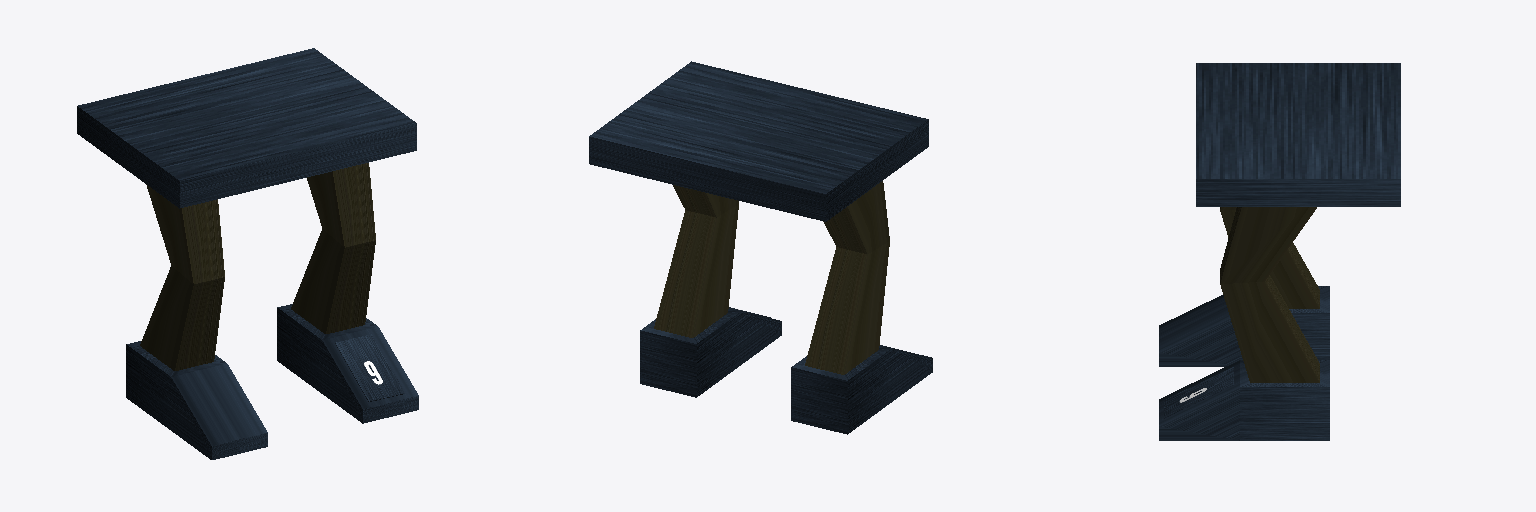
3 renders of one model, left to right at view 1: azimuth 30°, elevation 25°; view 2: azimuth 150°, elevation 25°; view 3: azimuth 270°, elevation 25°, orthographic.
Visible parts, largest first — view 1: pCube3, pCube1, pCube2, pCube4; view 2: pCube3, pCube1, pCube2; view 3: pCube3, pCube2, pCube1, pCube4.
Part boxes in pixels (x1,y1,x2,y2): pCube3: (77,48,416,208); pCube1: (126,184,267,459); pCube2: (277,163,418,423); pCube4: (335,334,404,401); pCube3: (589,61,928,221); pCube1: (791,181,932,434); pCube2: (640,185,781,397); pCube3: (1196,63,1400,206); pCube2: (1159,207,1329,440); pCube1: (1159,207,1329,366); pCube4: (1164,367,1233,418).
Bounding box in the file's own units: 9.02 × 9.81 × 7.97.
5 materials, 3 textured.